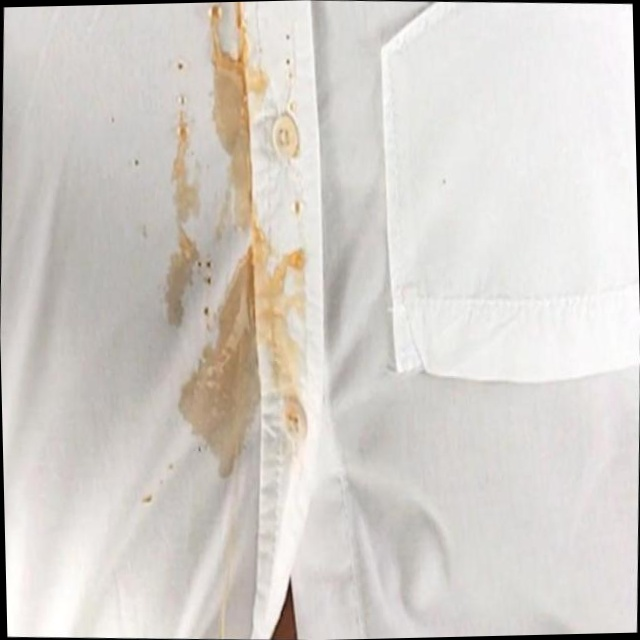coffee: (187, 265, 295, 471), (216, 20, 267, 221), (165, 106, 206, 225), (162, 233, 202, 328)
